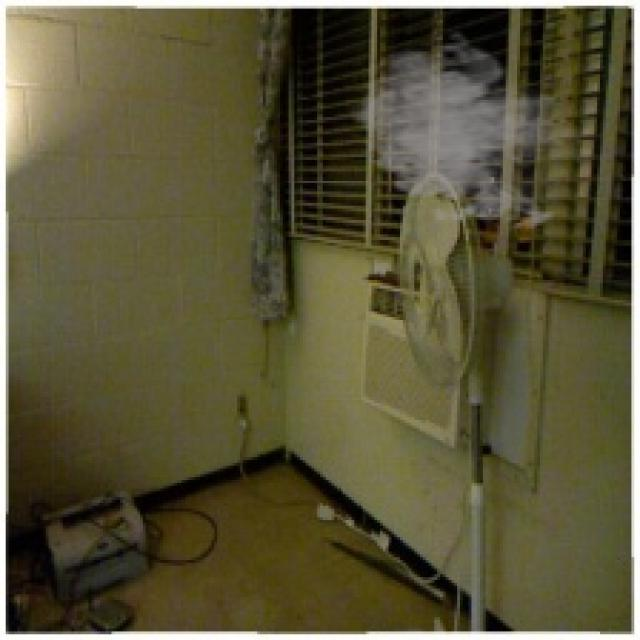smoke: (346, 29, 588, 234)
